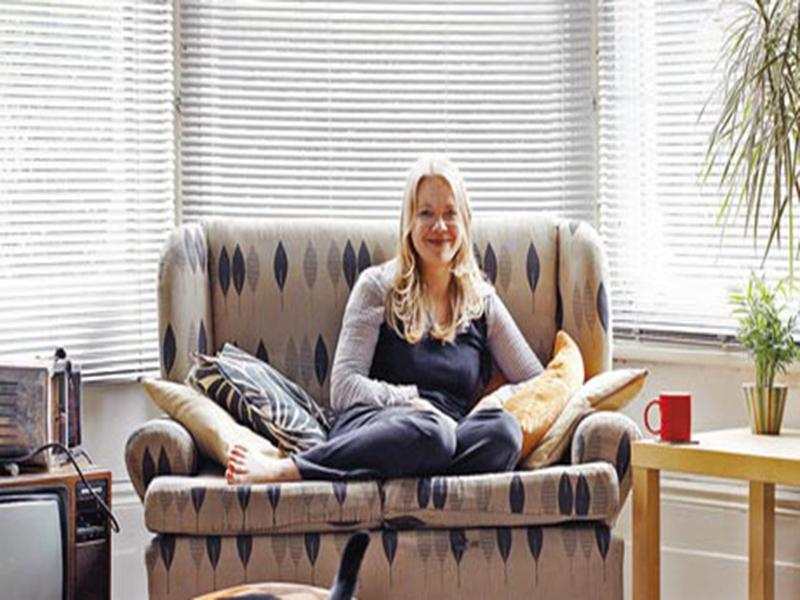human: (239, 156, 541, 485)
